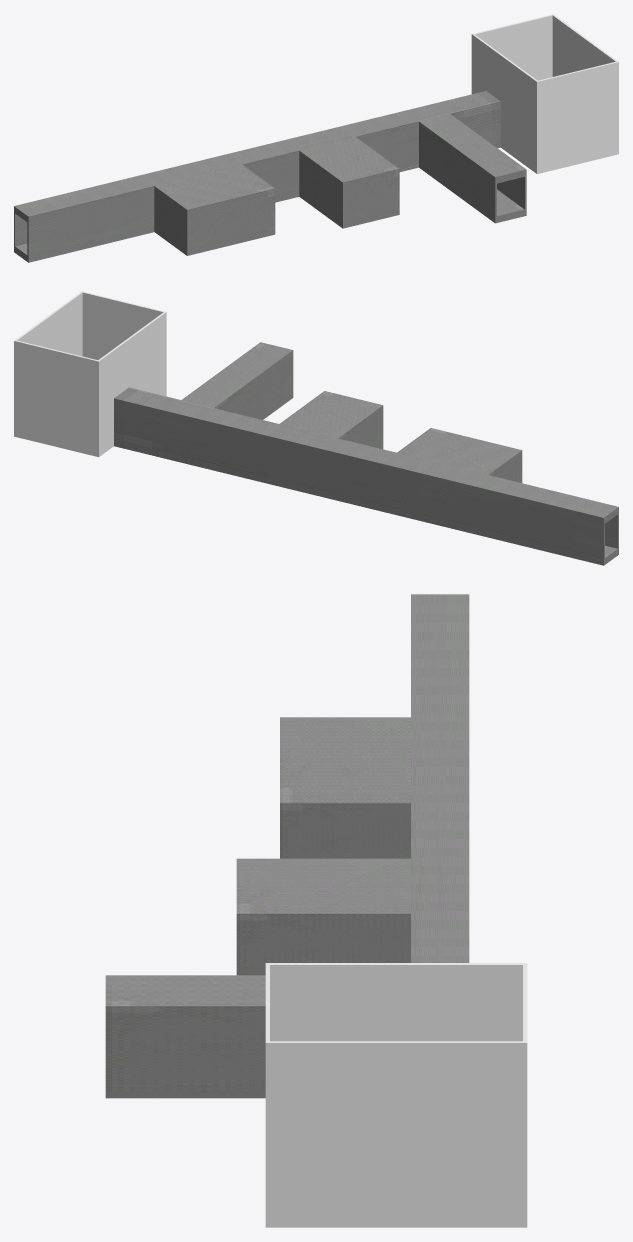
The model's file is first_level.gltf.
The picture shows the model from 3 angles, top to bottom: view 1: azimuth 30°, elevation 25°; view 2: azimuth 150°, elevation 25°; view 3: azimuth 270°, elevation 25°; orthographic projection. The views are drawn at different scales.
Parts seen in each view (by area): view 1: CSGCombiner3D2; view 2: CSGCombiner3D2; view 3: CSGCombiner3D2.
Boxes of the visible parts, bbox=[...] form: CSGCombiner3D2: bbox=[14, 14, 618, 262]; CSGCombiner3D2: bbox=[14, 291, 618, 565]; CSGCombiner3D2: bbox=[105, 594, 527, 1227].
Bounding box in the file's own units: 88 × 14 × 29.
25 materials, 4 textured.
